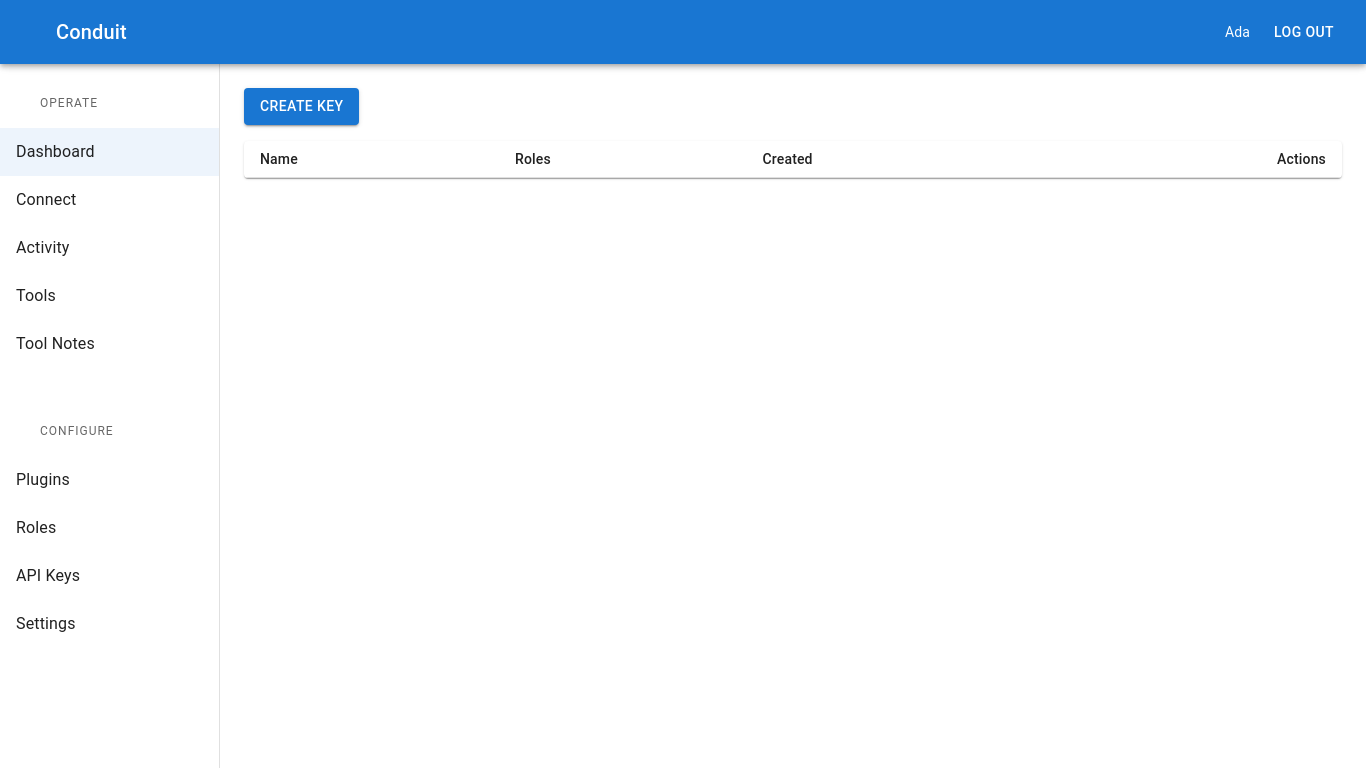
Test case: api keys page › only offers mcp-surface roles in the create dialog
Click the button "Create key".
click(302, 106)  # box [244,88,360,124]
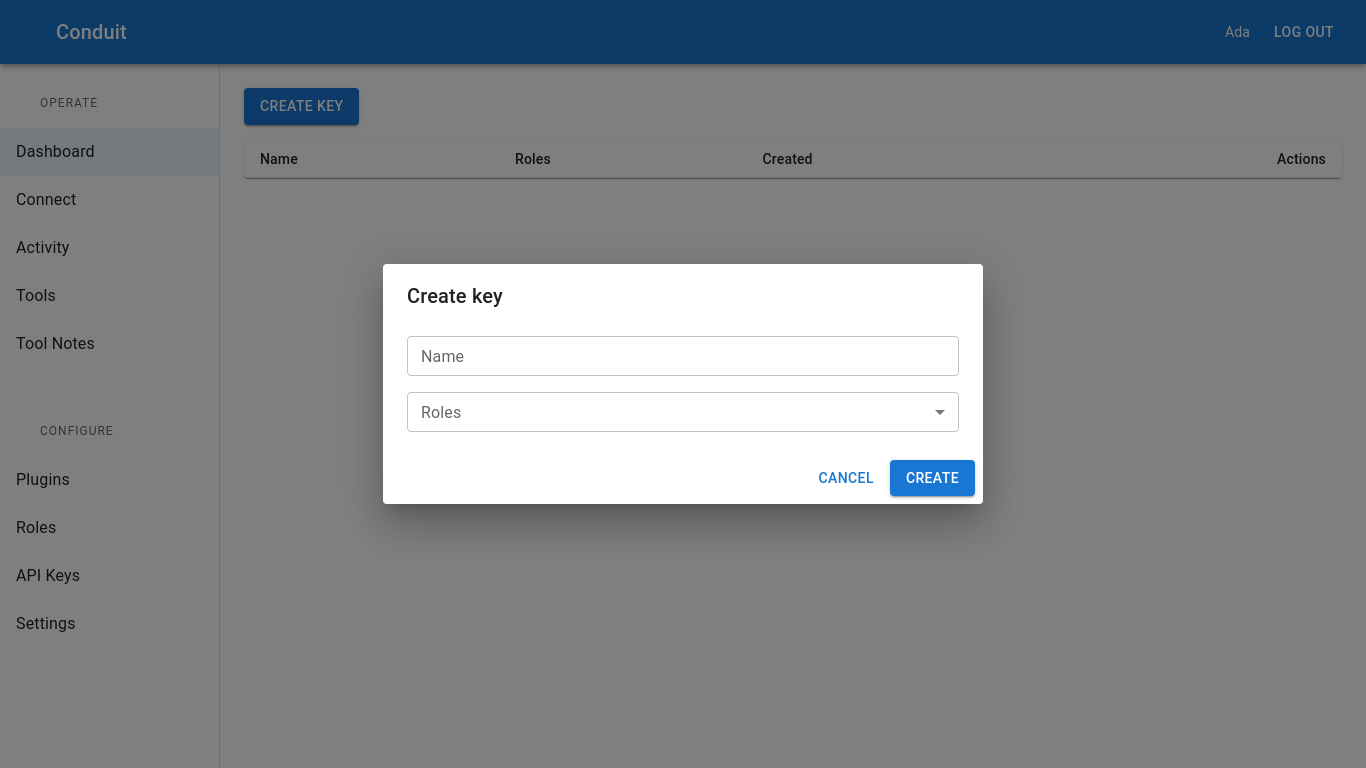
Press the mouse on the dropdown at (683, 412), box [407,392,959,432]
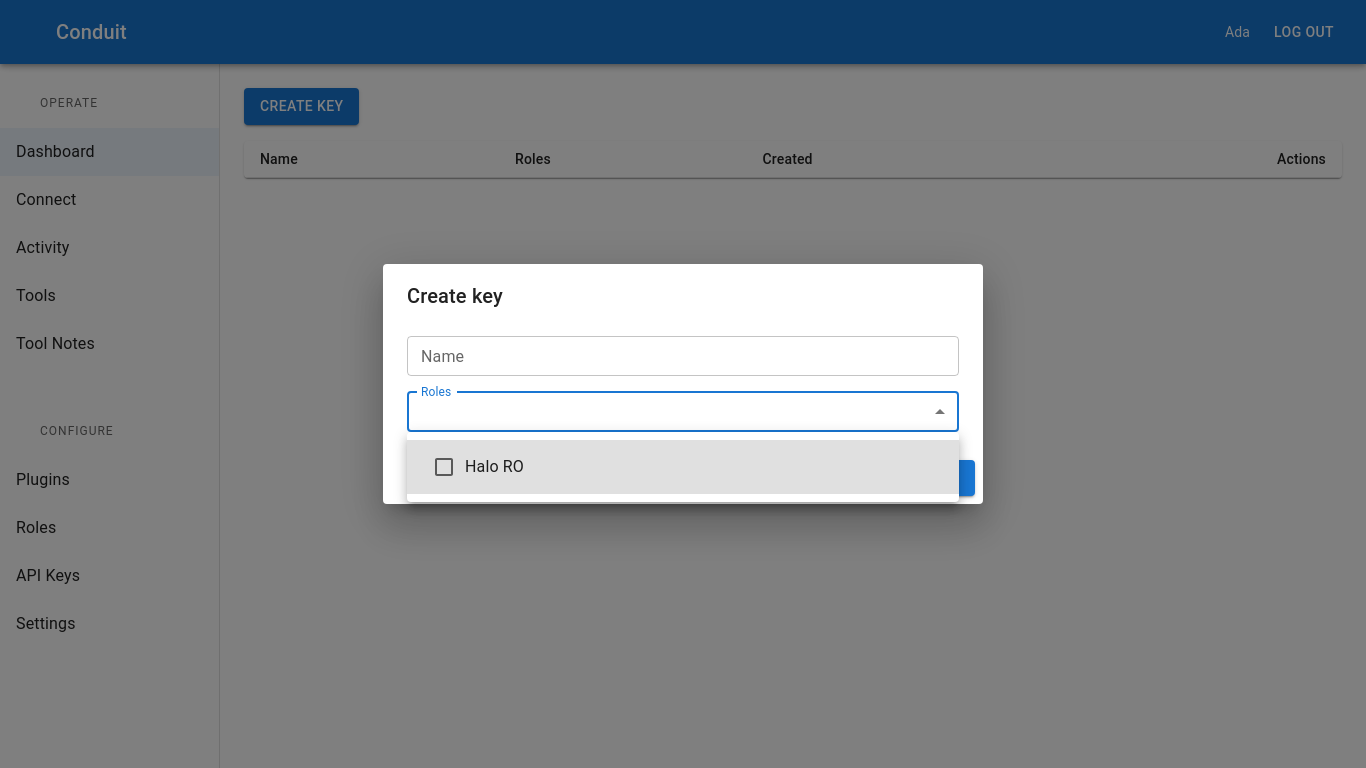
Result: the text "Halo RO" is shown at [465,457,524,476]
